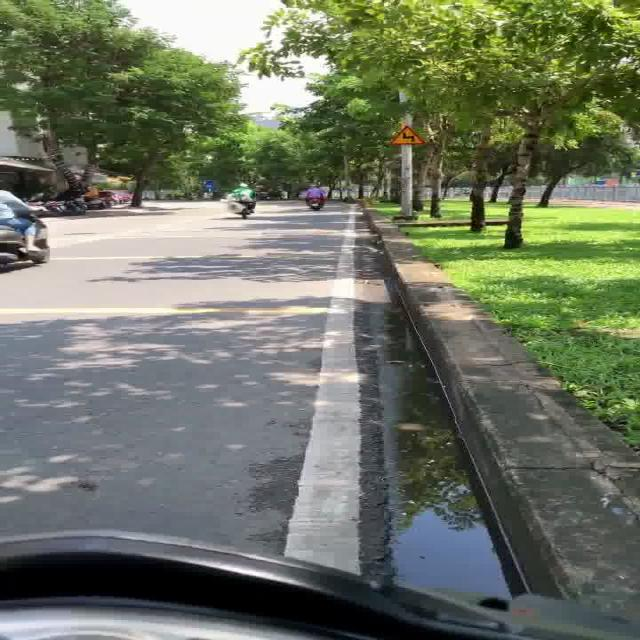Bien bao nhieu cho ngoat nguy hiem lien tiep: (382, 122, 428, 147)
